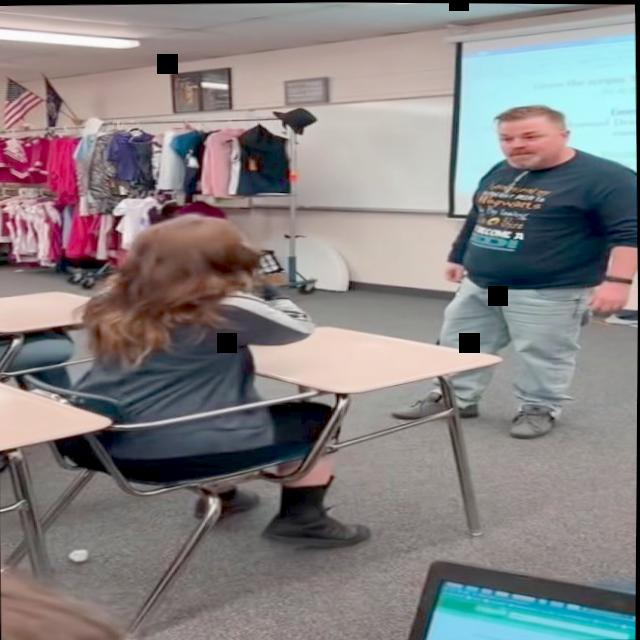NO-Mask: (499, 110, 571, 165)
